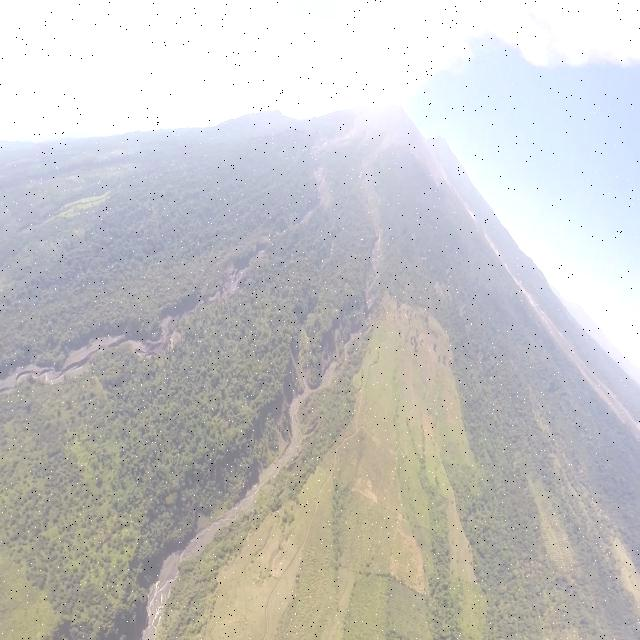Summit: (380, 87, 406, 110)
